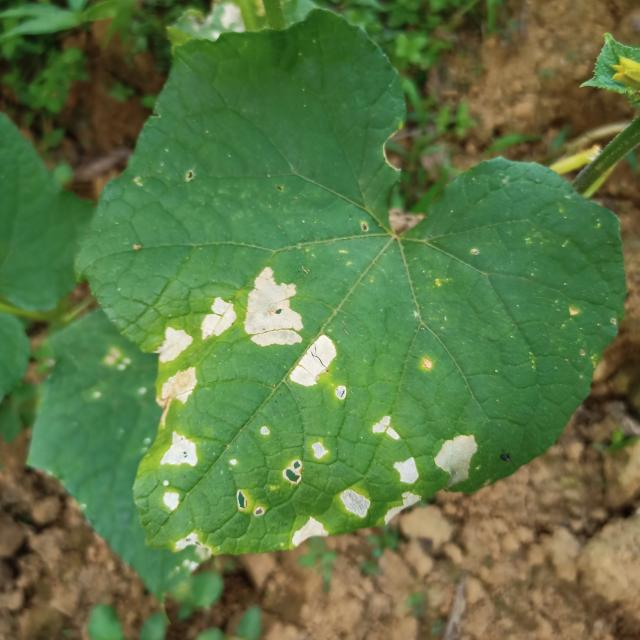disease_cucumber: (243, 268, 336, 392), (158, 326, 198, 404), (161, 432, 196, 513), (278, 438, 328, 486), (433, 435, 479, 485), (382, 458, 419, 520), (198, 296, 236, 339), (289, 514, 328, 547), (336, 486, 370, 521), (369, 415, 402, 444)
